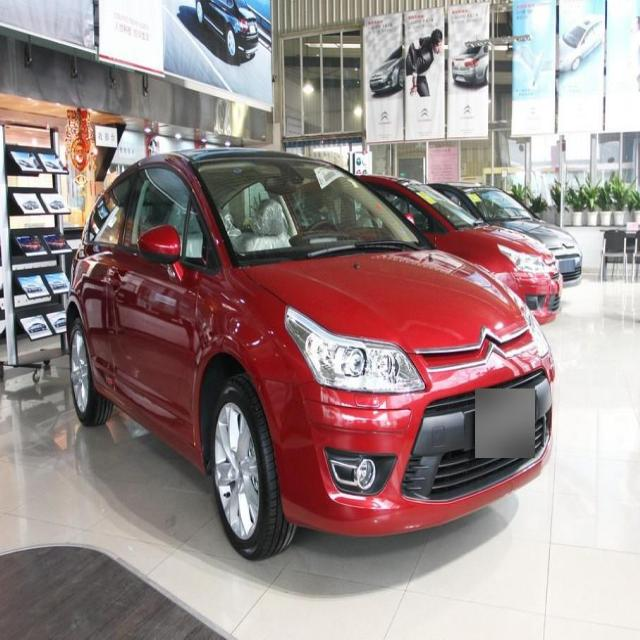front_bumper: (254, 346, 556, 540)
front_glass: (187, 156, 430, 264)
front_left_side_light: (524, 305, 550, 360)
front_right_side_door: (109, 160, 210, 430)
front_right_side_light: (283, 300, 428, 396)
front_right_side_mirror: (137, 223, 182, 276)
wheel: (210, 377, 295, 557), (69, 320, 111, 428)
